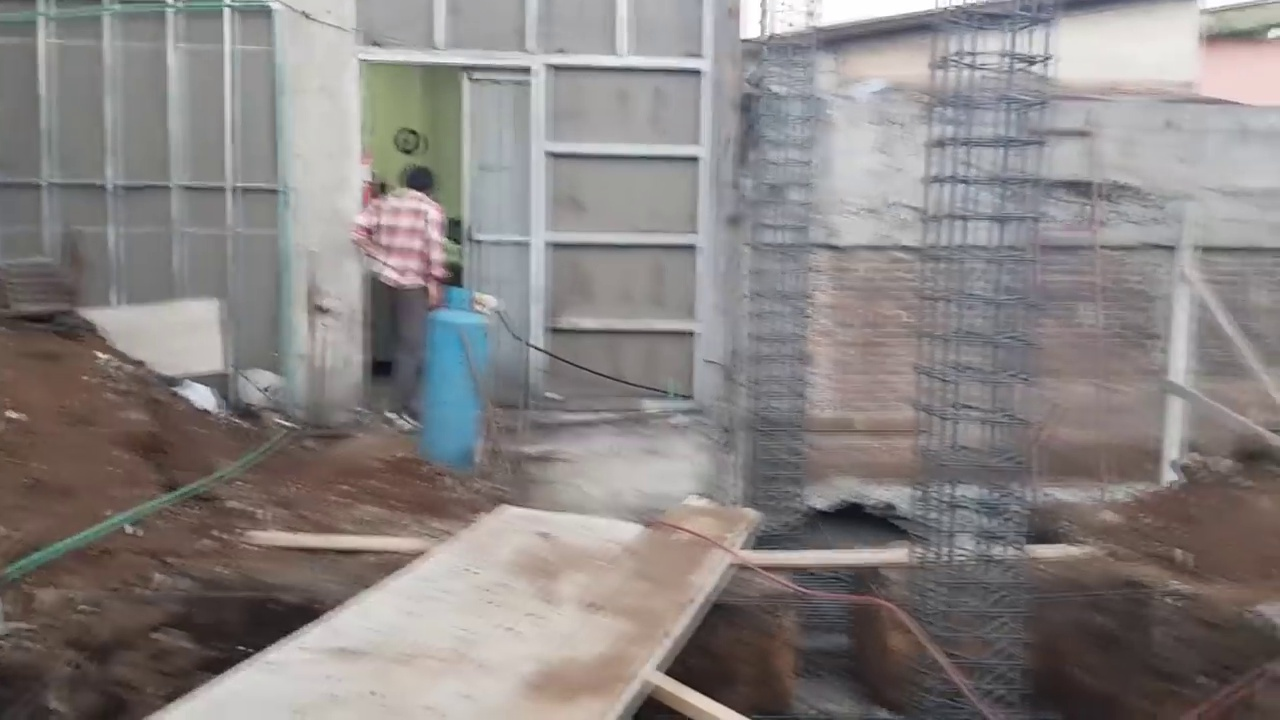helmet-off: (393, 165, 439, 210)
person: (347, 166, 452, 439)
